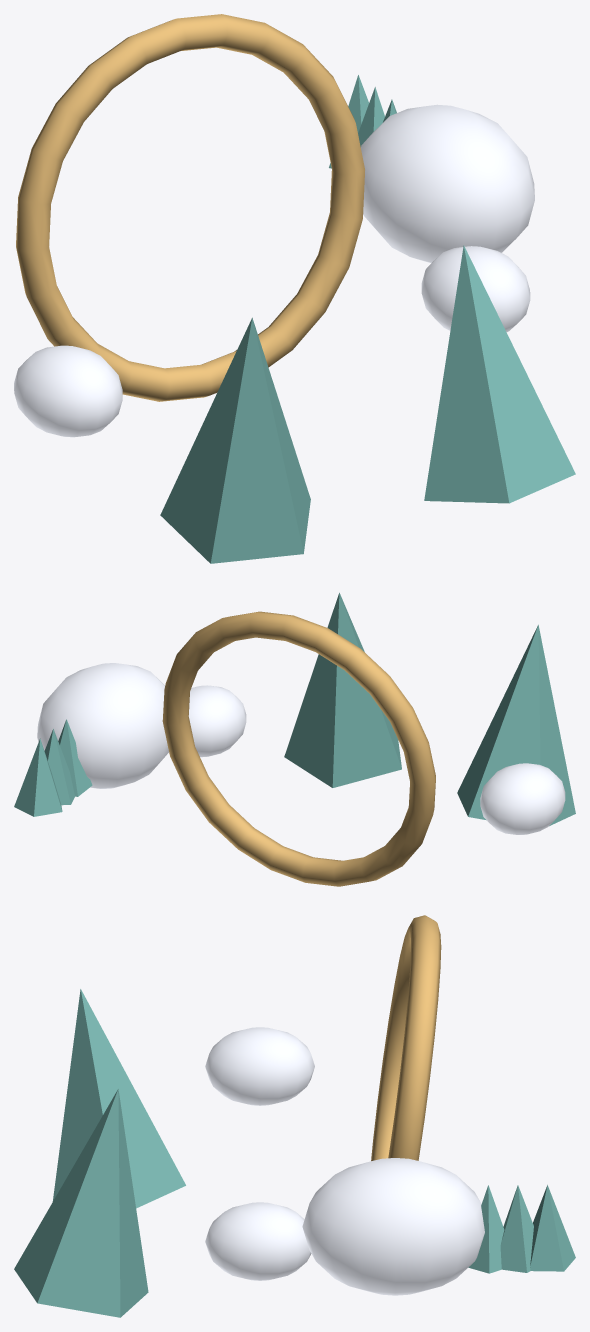
The model's file is hero_05_detail.glb.
The picture shows the model from 3 angles, top to bottom: view 1: azimuth 30°, elevation 25°; view 2: azimuth 150°, elevation 25°; view 3: azimuth 270°, elevation 25°; orthographic projection. The views are drawn at different scales.
Parts seen in each view (by area): view 1: Lissa_StreetSigil, Lissa_SparkCore, Lissa_CollarSpark_-1, Lissa_CollarSpark_1, Lissa_EarFocus_-1, Lissa_EarFocus_1, Lissa_SparkProng_1; view 2: Lissa_StreetSigil, Lissa_SparkCore, Lissa_CollarSpark_1, Lissa_CollarSpark_-1, Lissa_EarFocus_-1, Lissa_EarFocus_1, Lissa_SparkProng_2, Lissa_SparkProng_1, Lissa_SparkProng_0; view 3: Lissa_SparkCore, Lissa_CollarSpark_1, Lissa_StreetSigil, Lissa_CollarSpark_-1, Lissa_EarFocus_-1, Lissa_EarFocus_1, Lissa_SparkProng_2, Lissa_SparkProng_1, Lissa_SparkProng_0.
Part boxes in pixels (left/top/right/bottom): Lissa_StreetSigil: left=16, top=14, right=364, bottom=401; Lissa_SparkCore: left=361, top=104, right=534, bottom=263; Lissa_CollarSpark_-1: left=160, top=317, right=310, bottom=563; Lissa_CollarSpark_1: left=424, top=245, right=575, bottom=503; Lissa_EarFocus_-1: left=14, top=345, right=122, bottom=437; Lissa_EarFocus_1: left=421, top=246, right=530, bottom=332; Lissa_SparkProng_1: left=358, top=87, right=384, bottom=147; Lissa_StreetSigil: left=162, top=611, right=435, bottom=886; Lissa_SparkCore: left=37, top=663, right=168, bottom=788; Lissa_CollarSpark_1: left=284, top=592, right=401, bottom=787; Lissa_CollarSpark_-1: left=457, top=624, right=575, bottom=826; Lissa_EarFocus_-1: left=480, top=763, right=565, bottom=834; Lissa_EarFocus_1: left=188, top=685, right=246, bottom=757; Lissa_SparkProng_2: left=14, top=738, right=62, bottom=816; Lissa_SparkProng_1: left=44, top=729, right=74, bottom=805; Lissa_SparkProng_0: left=58, top=719, right=92, bottom=796; Lissa_SparkCore: left=302, top=1158, right=484, bottom=1295; Lissa_CollarSpark_1: left=14, top=1089, right=148, bottom=1317; Lissa_StreetSigil: left=371, top=915, right=441, bottom=1160; Lissa_CollarSpark_-1: left=52, top=989, right=185, bottom=1208; Lissa_EarFocus_-1: left=205, top=1027, right=314, bottom=1105; Lissa_EarFocus_1: left=205, top=1202, right=311, bottom=1280; Lissa_SparkProng_2: left=530, top=1185, right=575, bottom=1271; Lissa_SparkProng_1: left=500, top=1185, right=533, bottom=1272; Lissa_SparkProng_0: left=468, top=1185, right=504, bottom=1273.
Size of the model in its own units: 0.69 by 0.4141 by 0.6648.
